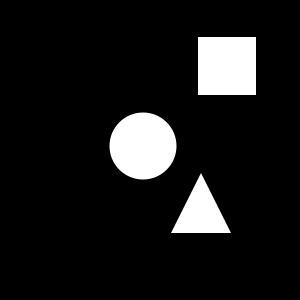circle: (198, 37, 256, 95)
rectangle: (110, 112, 176, 180)
triangle: (171, 173, 231, 233)
